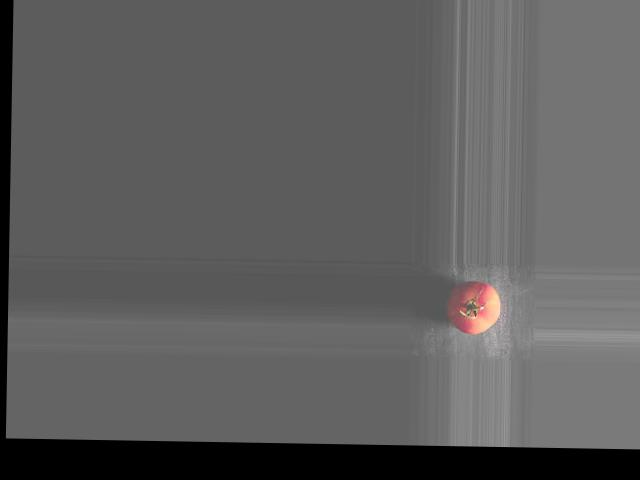tomato: (446, 281, 500, 334)
